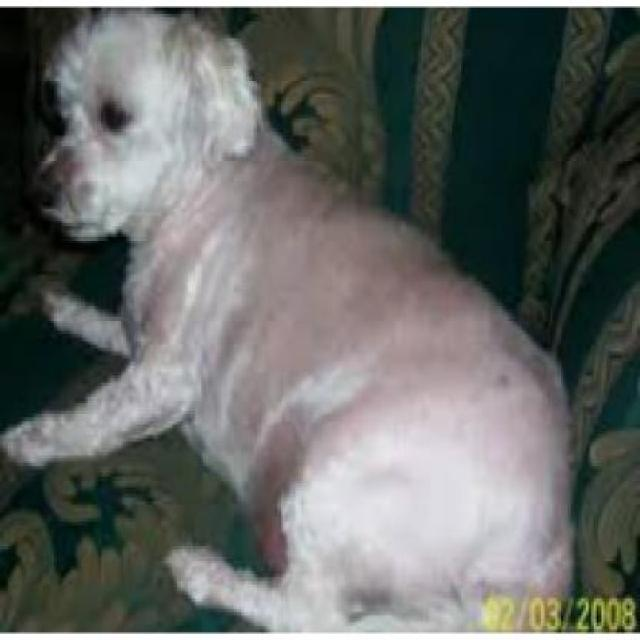Dog: (0, 7, 578, 632)
